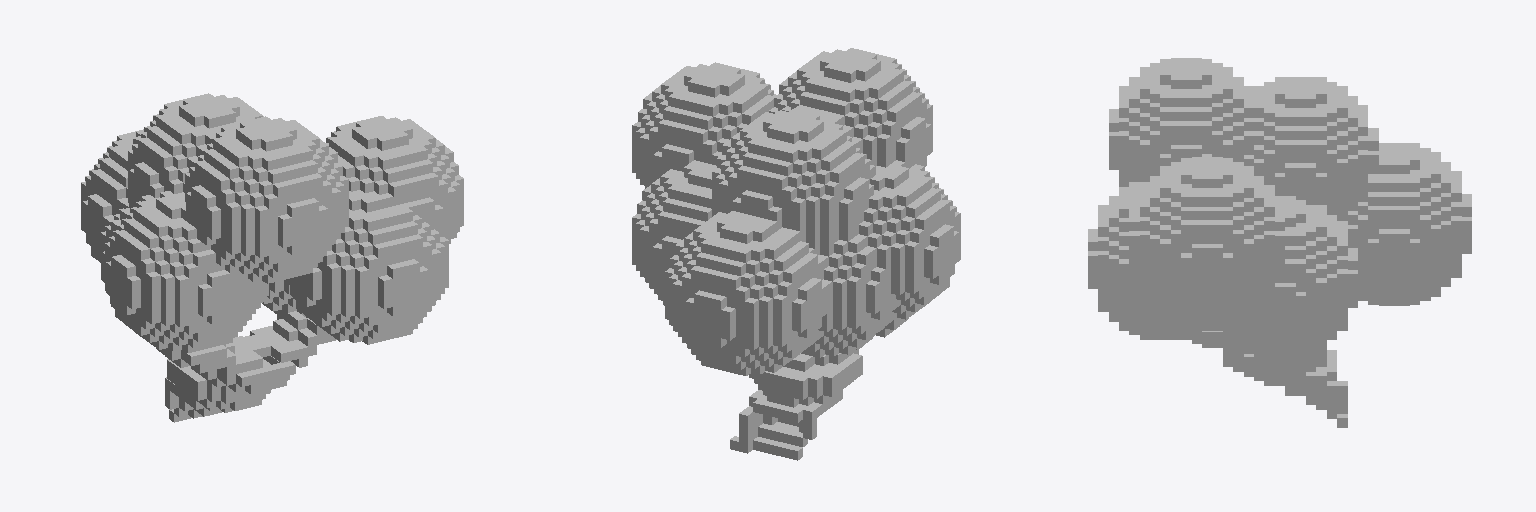
Rendered from 1_4 ipe.obj.
3 views of the same model, side by side, from view 1: azimuth 30°, elevation 25°; view 2: azimuth 150°, elevation 25°; view 3: azimuth 270°, elevation 25° (orthographic).
Parts seen in each view (by area): view 1: object 1; view 2: object 1; view 3: object 1.
Boxes of the visible parts, box(x1,y1,x2,y2) form: object 1: box(81, 93, 463, 422); object 1: box(632, 48, 960, 460); object 1: box(1088, 58, 1471, 427).
Bounding box in the file's own units: 3.5 × 3.6 × 3.7.